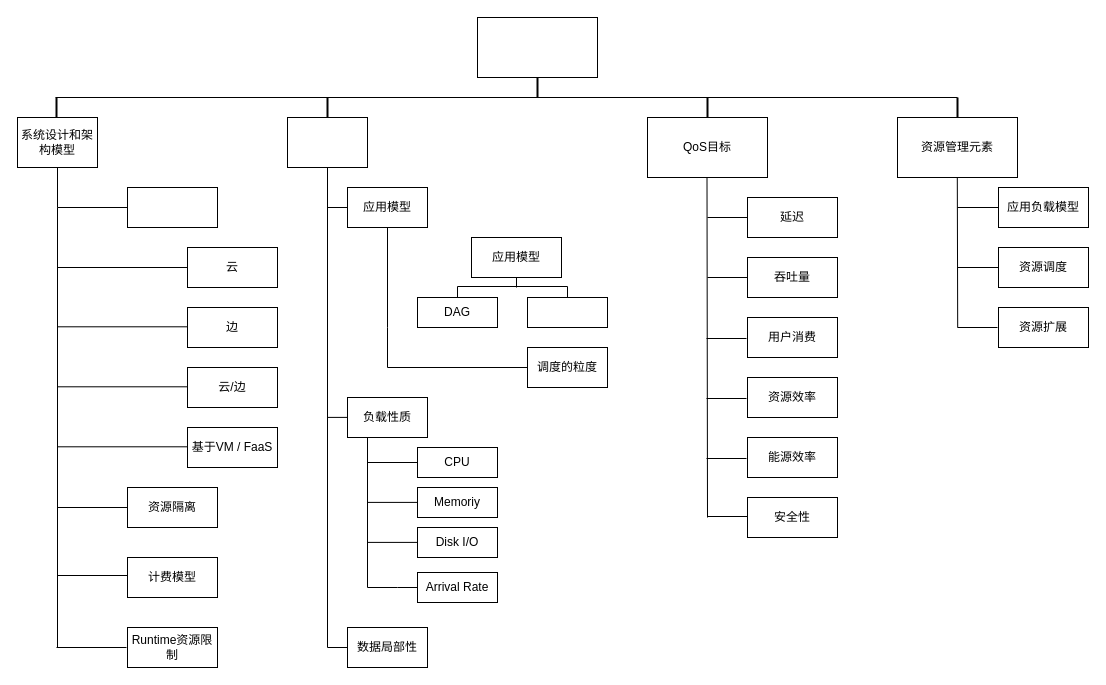
Some shapes in this 1106 by 685 pixel diagram are drawn without their labels. Each missing label, with the centre of its shape:
"Serverless Resource Management" goes at point (537, 47).
"Task" goes at point (567, 312).
"负载管理" goes at point (327, 142).
"部署模型" goes at point (172, 207).
